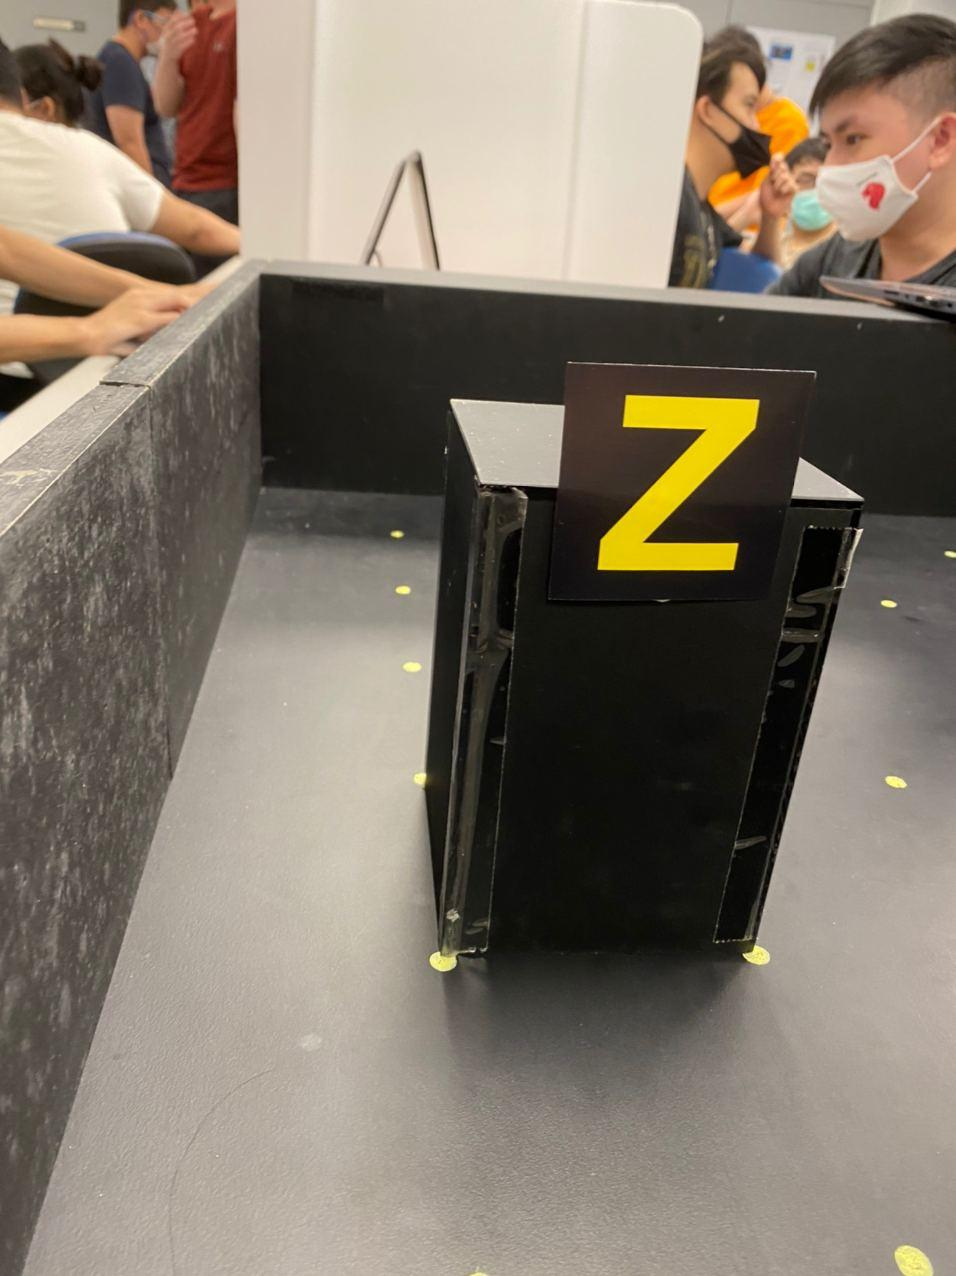z: (599, 379, 762, 581)
